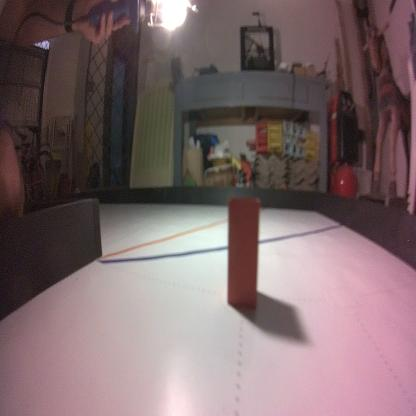red: (225, 195, 258, 306)
